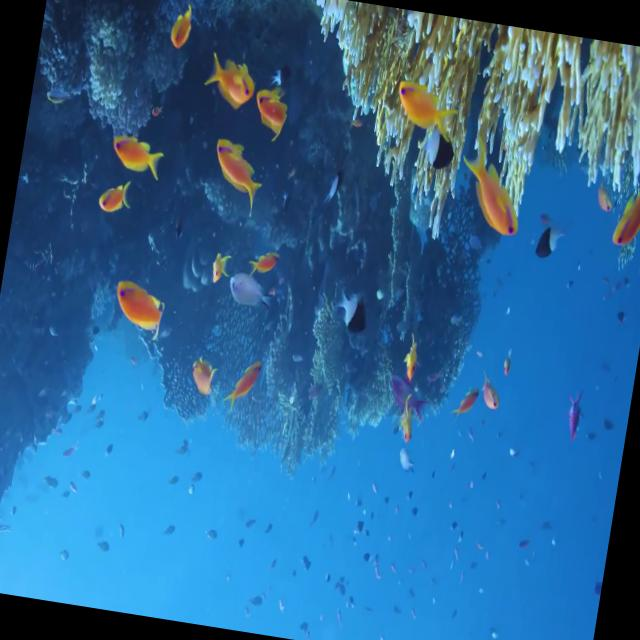fish: (449, 126, 536, 247), (384, 80, 470, 170), (206, 138, 274, 225), (94, 115, 174, 187), (100, 268, 170, 350), (193, 43, 263, 117), (317, 274, 375, 358), (412, 127, 478, 190), (219, 352, 272, 420), (378, 386, 429, 454), (601, 174, 640, 260), (522, 208, 574, 270), (250, 80, 296, 150), (183, 348, 224, 416), (89, 172, 136, 230), (473, 366, 518, 426), (392, 320, 426, 399), (559, 386, 592, 459), (220, 272, 268, 320), (164, 0, 198, 52), (450, 378, 486, 426), (247, 240, 284, 283), (202, 244, 228, 305), (318, 157, 346, 211)
